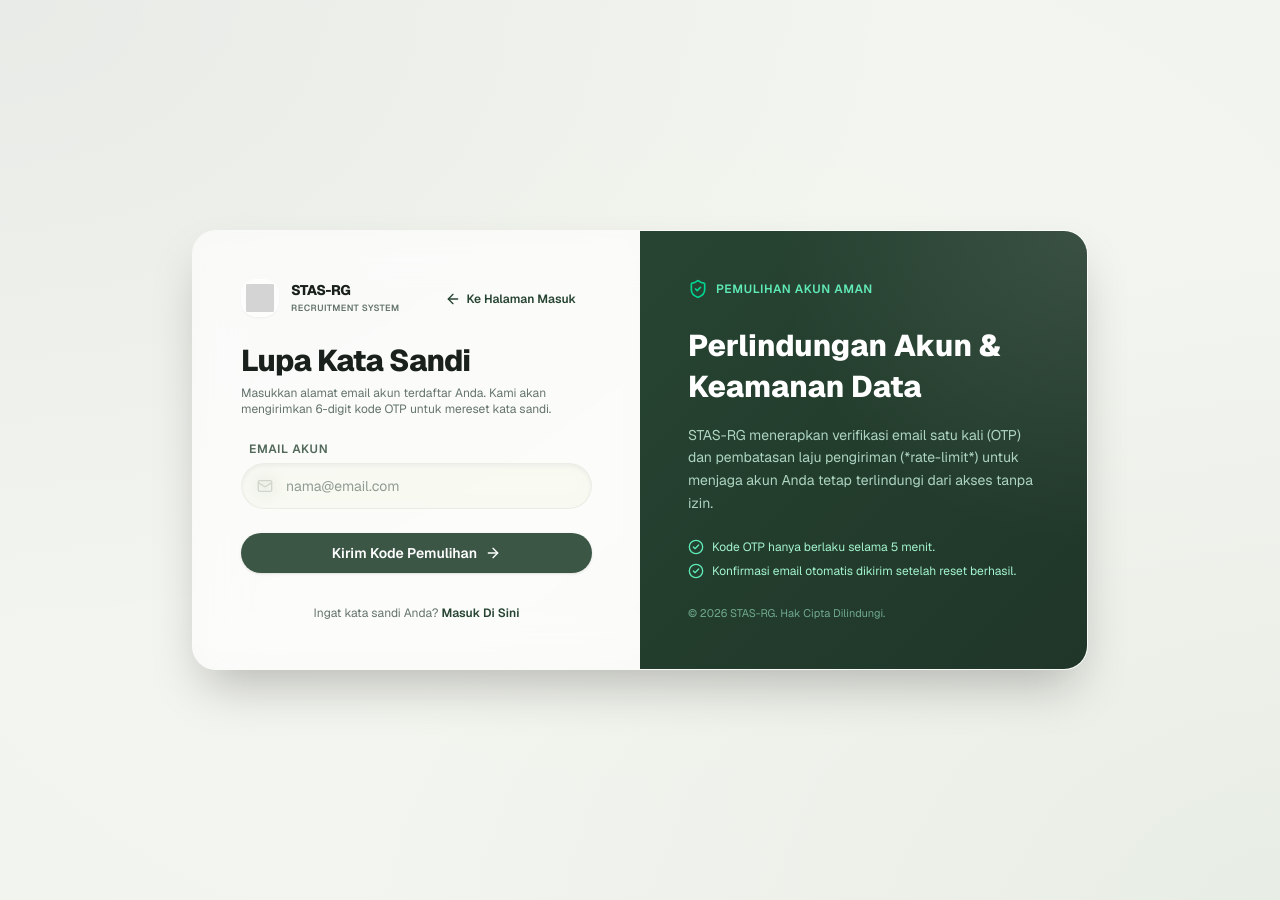
Test: app/auth/forgot-password › renders step 1 (request OTP) and transitions to step 2 after requesting OTP
The width and height of the screenshot is (1280, 900).
Check: the heading "Lupa Kata Sandi" is shown, box [241,341,470,380]
Check: the button "Kirim Kode Pemulihan" is shown, box [241,533,592,573]
Note: Fill email
Type "user@stas-rg.ac.id" into the field labelled "Email Akun" at coordinates (416, 486), box [241,463,592,509]
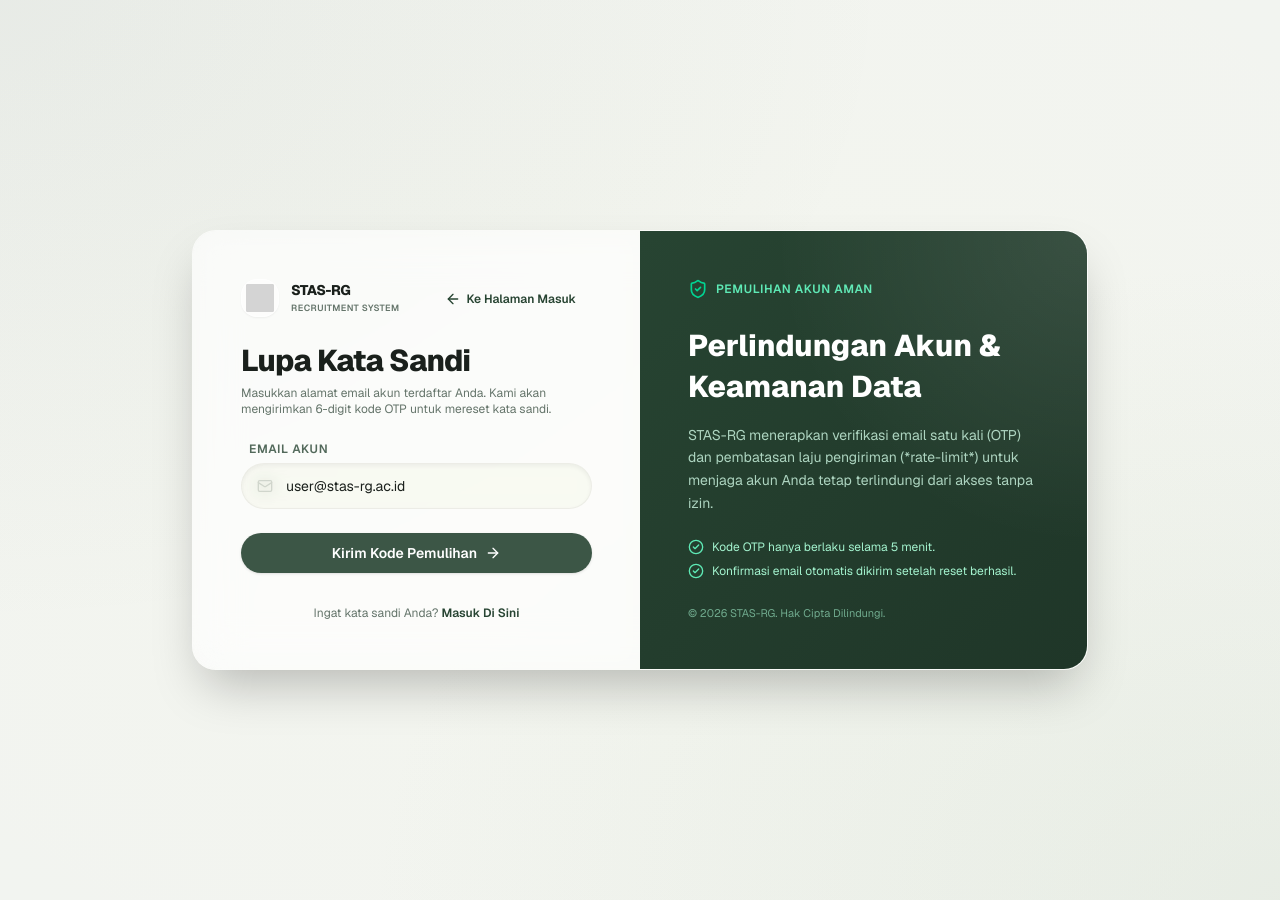
Click the button "Kirim Kode Pemulihan" at coordinates (416, 553), box [241,533,592,573]
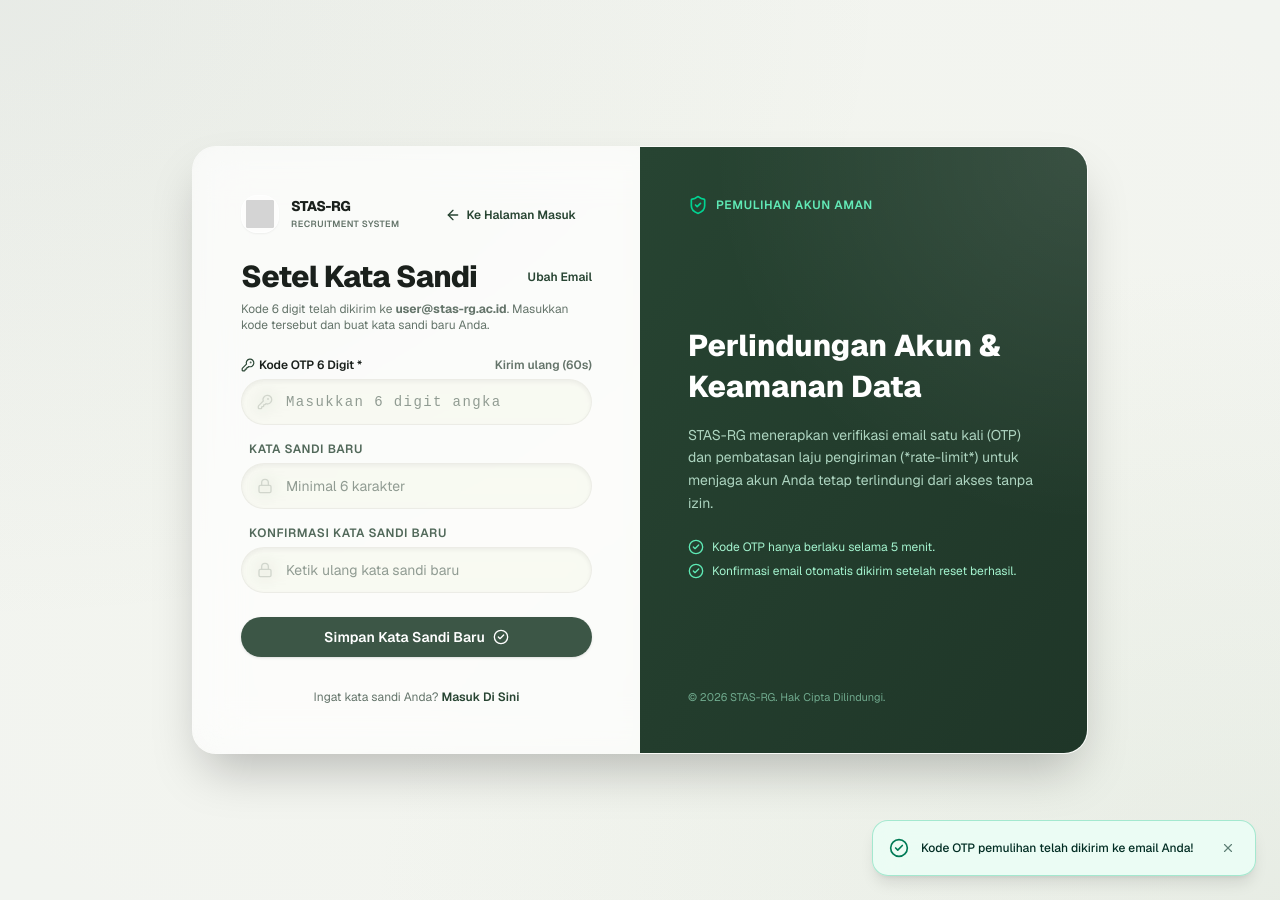
Check: the heading "Setel Kata Sandi" is shown, box [241,259,477,295]
Check: the text "user@stas-rg.ac.id" is shown, box [395,301,507,317]
Check: the text "Kode OTP 6 Digit *" is shown, box [259,357,362,373]
